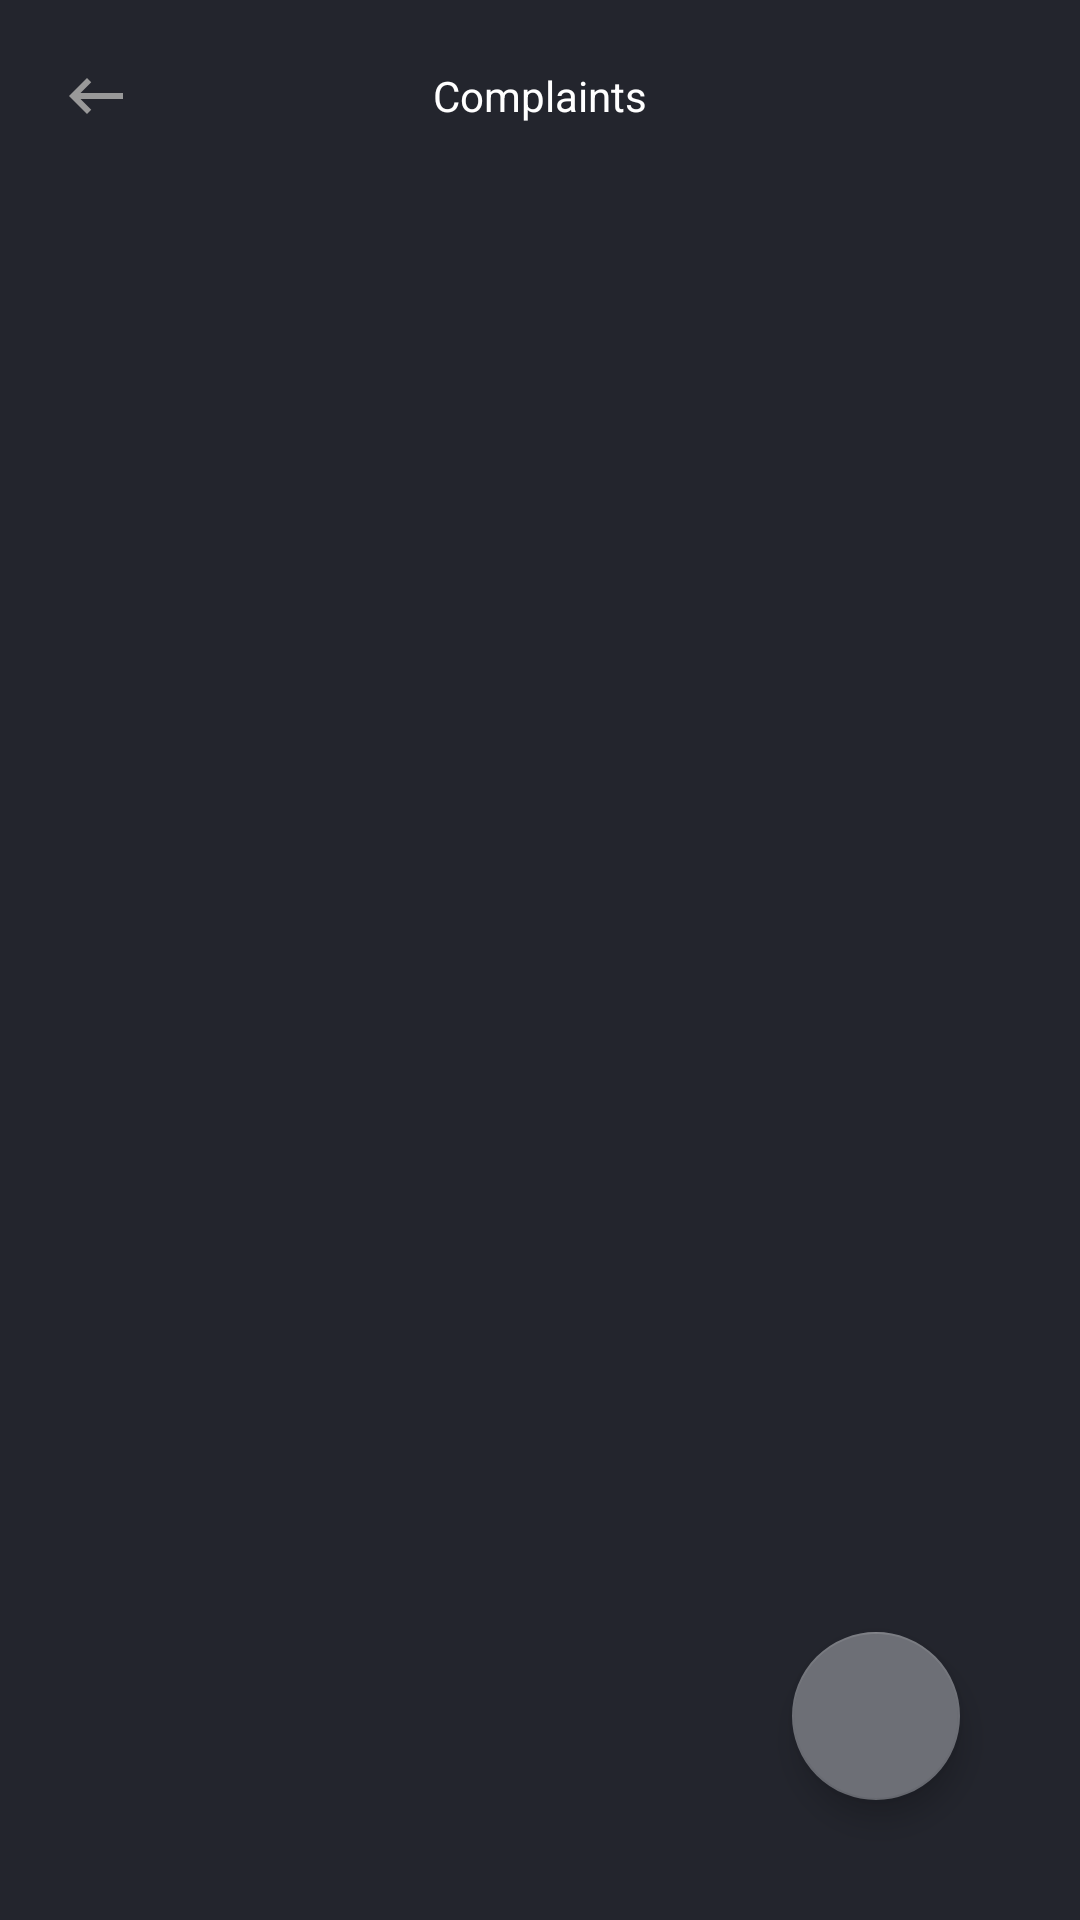

Where to tap for icons on this 1080*1920 app screen, as (x,y):
keyboard backspace: (96,96)
